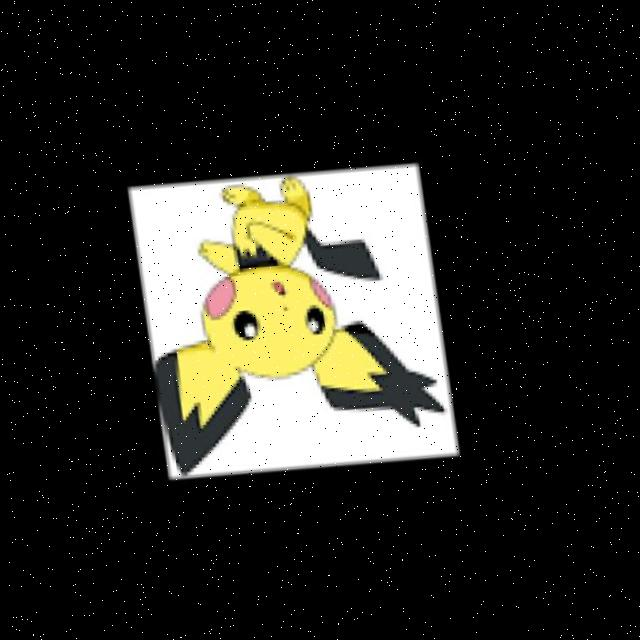pichu: (107, 138, 468, 492)
